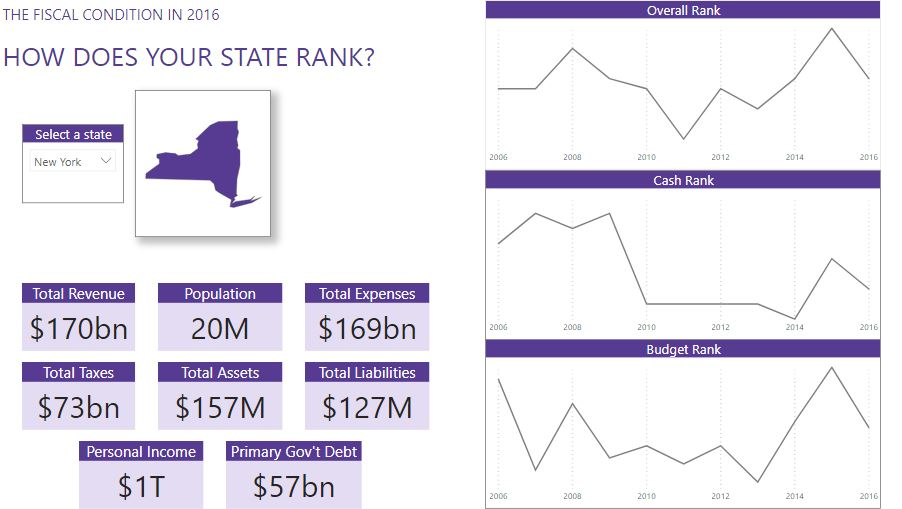

The page's visual inventory and layout, read from the dashboard file:
{"tool":"powerbi","page":{"name":"Page 1","canvas":[1280,720],"ordinal":0},"visuals":[{"type":"card","title":"Total Revenue","fields":{"Values":["Sum(Fiscal_Condition_USA_States.Total Revenue )"]},"box":[32,400,160,96],"z":0,"group":"g1"},{"type":"textbox","box":[0,48,560,80],"z":0},{"type":"textbox","box":[0,0,320,64],"z":1000},{"type":"card","title":"Population","fields":{"Values":["Sum(Fiscal_Condition_USA_States.Population)"]},"box":[224,400,176,96],"z":1000,"group":"g1"},{"type":"card","title":"Total Expenses","fields":{"Values":["Sum(Fiscal_Condition_USA_States.Total Expenses)"]},"box":[432,400,176,96],"z":2000,"group":"g1"},{"type":"shapeMap","fields":{"Category":["Fiscal_Condition_USA_States.State"]},"box":[192,128,192,208],"z":2000},{"type":"card","title":"Total Assets","fields":{"Values":["Sum(Fiscal_Condition_USA_States.Total Assets)"]},"box":[224,512,176,96],"z":3000,"group":"g1"},{"type":"slicer","title":"Select a state","fields":{"Values":["Fiscal_Condition_USA_States.State"]},"box":[32,176,144,112],"z":3000},{"type":"lineChart","title":"Overall Rank","fields":{"Category":["Fiscal_Condition_USA_States.Year "],"Y":["Sum(Fiscal_Condition_USA_States.Overall Rank Negative)"],"Series":["Fiscal_Condition_USA_States.State"]},"box":[688,0,560,240],"z":4000},{"type":"card","title":"Total Liabilities","fields":{"Values":["Sum(Fiscal_Condition_USA_States.Total Liabilities)"]},"box":[432,512,176,96],"z":4000,"group":"g1"},{"type":"card","title":"Total Taxes","fields":{"Values":["Sum(Fiscal_Condition_USA_States.Total Taxes)"]},"box":[32,512,160,96],"z":5000,"group":"g1"},{"type":"lineChart","title":"Cash Rank","fields":{"Category":["Fiscal_Condition_USA_States.Year "],"Series":["Fiscal_Condition_USA_States.State"],"Y":["Sum(Fiscal_Condition_USA_States.Cash Rank Negative)"]},"box":[688,240,560,240],"z":5000},{"type":"lineChart","title":"Budget Rank","fields":{"Category":["Fiscal_Condition_USA_States.Year "],"Series":["Fiscal_Condition_USA_States.State"],"Y":["Sum(Fiscal_Condition_USA_States.Budget Rank Negative)"]},"box":[688,480,560,240],"z":6000},{"type":"group","id":"g1","title":"Group 1","box":[32,400,576,320],"z":7000},{"type":"card","title":"Primary Gov''t Debt","fields":{"Values":["Sum(Fiscal_Condition_USA_States.Primary gov debt)"]},"box":[320,624,192,96],"z":13000,"group":"g1"},{"type":"card","title":"Personal Income","fields":{"Values":["Sum(Fiscal_Condition_USA_States.Personal income)"]},"box":[112,624,176,96],"z":14000,"group":"g1"}]}

Visuals, with their boxes in screenshot pixels (x1, y1, x2, y2), scaled from the page's 1280x720 canvas onto the 902x509 screenshot:
"Total Revenue" card: x1=23, y1=283, x2=135, y2=351
textbox: x1=0, y1=34, x2=395, y2=90
textbox: x1=0, y1=0, x2=226, y2=45
"Population" card: x1=158, y1=283, x2=282, y2=351
"Total Expenses" card: x1=304, y1=283, x2=428, y2=351
shapeMap - Fiscal_Condition_USA_States.State: x1=135, y1=90, x2=271, y2=238
"Total Assets" card: x1=158, y1=362, x2=282, y2=430
"Select a state" slicer: x1=23, y1=124, x2=124, y2=204
"Overall Rank" lineChart: x1=485, y1=0, x2=879, y2=170
"Total Liabilities" card: x1=304, y1=362, x2=428, y2=430
"Total Taxes" card: x1=23, y1=362, x2=135, y2=430
"Cash Rank" lineChart: x1=485, y1=170, x2=879, y2=339
"Budget Rank" lineChart: x1=485, y1=339, x2=879, y2=508
"Group 1" group: x1=23, y1=283, x2=428, y2=508
"Primary Gov''t Debt" card: x1=226, y1=441, x2=361, y2=508
"Personal Income" card: x1=79, y1=441, x2=203, y2=508
